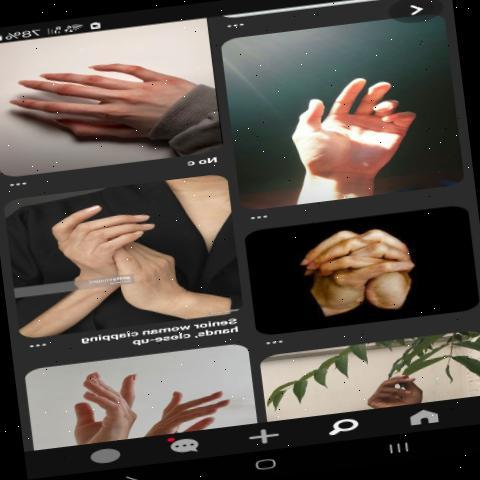Hands: (1, 34, 196, 174), (258, 50, 438, 193), (45, 200, 151, 300)
